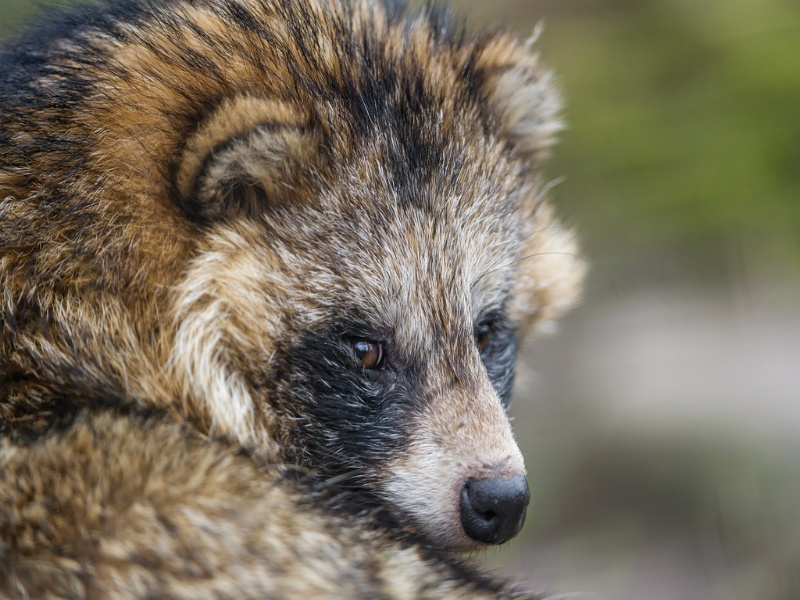raccoon: (3, 6, 597, 580)
